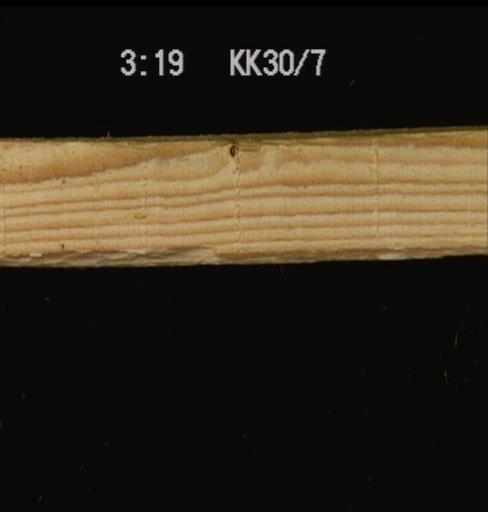dry_knot: (223, 138, 245, 160)
wave: (0, 230, 486, 271)
